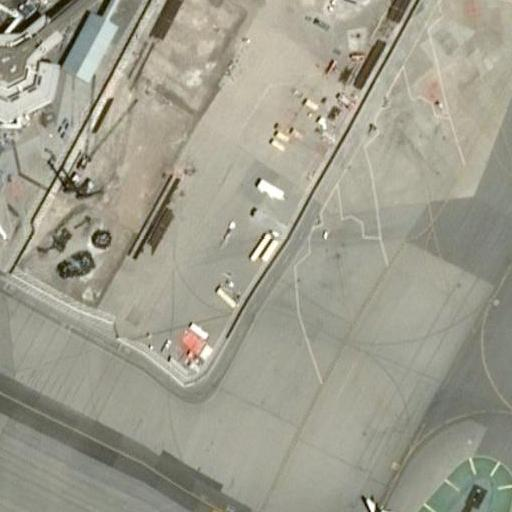Aircraft: (318, 492, 399, 512), (0, 180, 10, 246)
